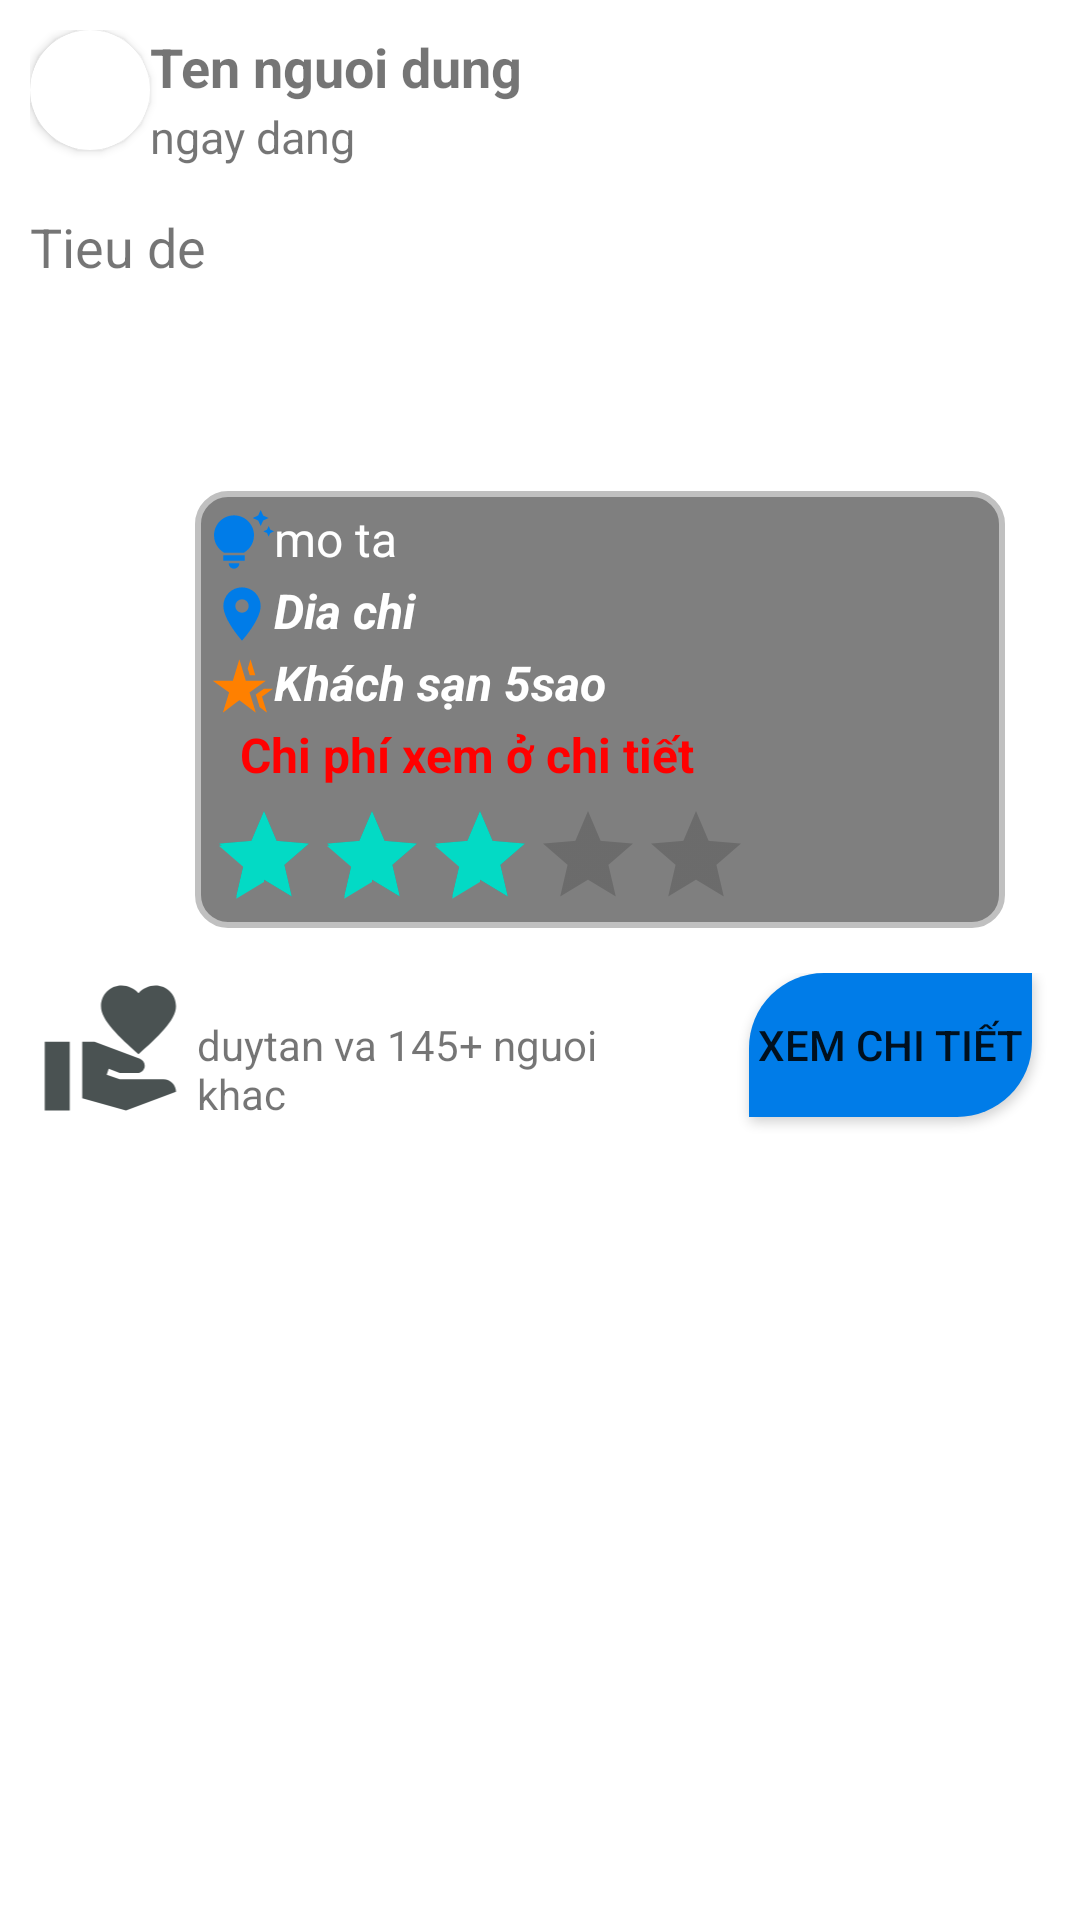

Where to tap for icons on this 1080x1920 app screen, as [x,y]:
hotel class: [242,686]
location on: [242,613]
tips and updates: [244,539]
volunteer activism: [110,1048]
